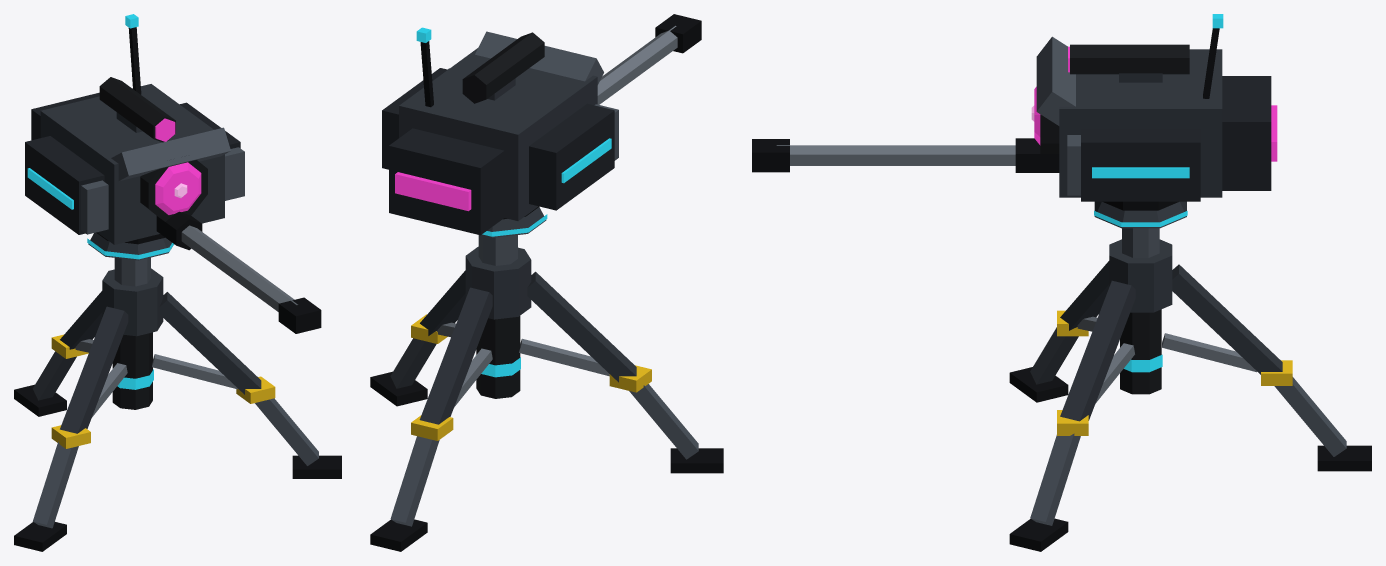
Rendered from neon-sentry.glb.
3 views of the same model, side by side, from view 1: azimuth 30°, elevation 25°; view 2: azimuth 150°, elevation 25°; view 3: azimuth 270°, elevation 25° (orthographic). The views are drawn at different scales.
Parts seen in each view (by area): view 1: head, base; view 2: head, base; view 3: head, base.
Part boxes in pixels (left/top/right/bottom): head: left=25, top=14, right=321, bottom=333; base: left=14, top=232, right=341, bottom=551; head: left=382, top=14, right=701, bottom=235; base: left=370, top=207, right=723, bottom=551; head: left=752, top=14, right=1277, bottom=210; base: left=1009, top=201, right=1371, bottom=551.
Bounding box in the file's own units: 0.9233 × 1.13 × 1.37.
2 materials, 2 textured.
